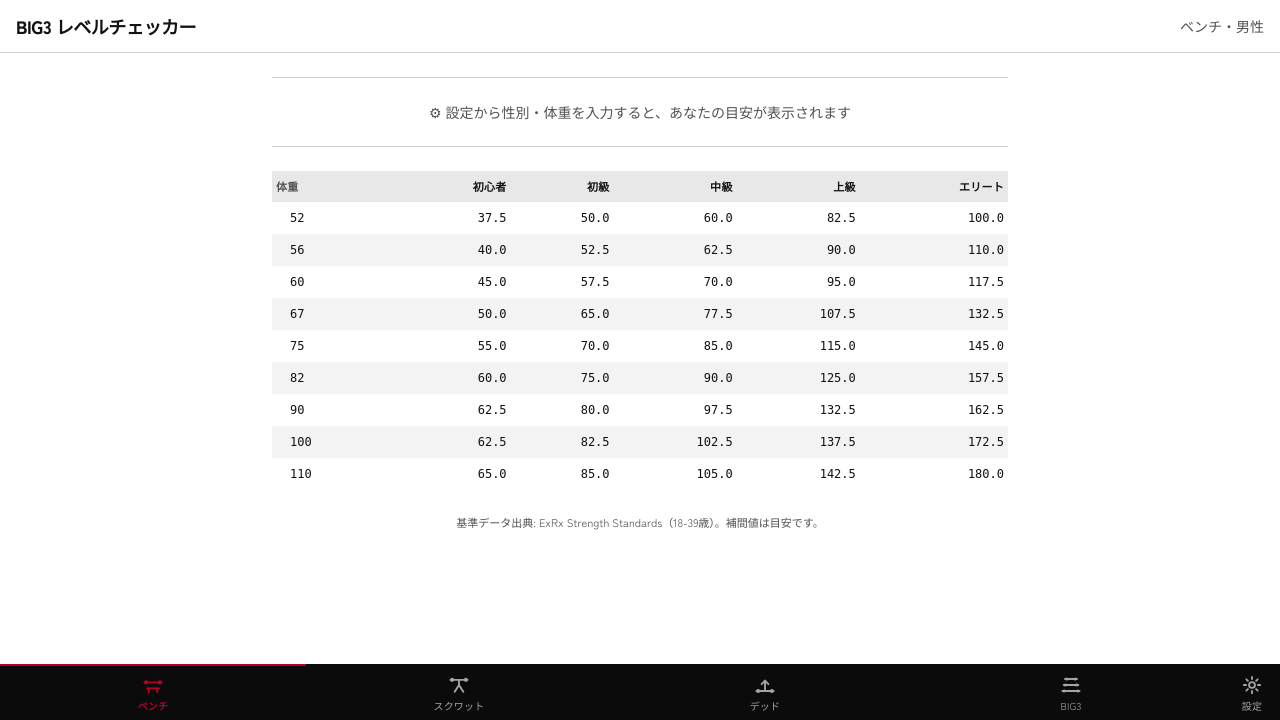
Test: App › 種目を切り替えるとヘッダ表示が変わる
Expected: the text "ベンチ・男性" is shown, [1180,16,1264,36]
Click the button "スクワット": (459, 692) [306,664,612,719]
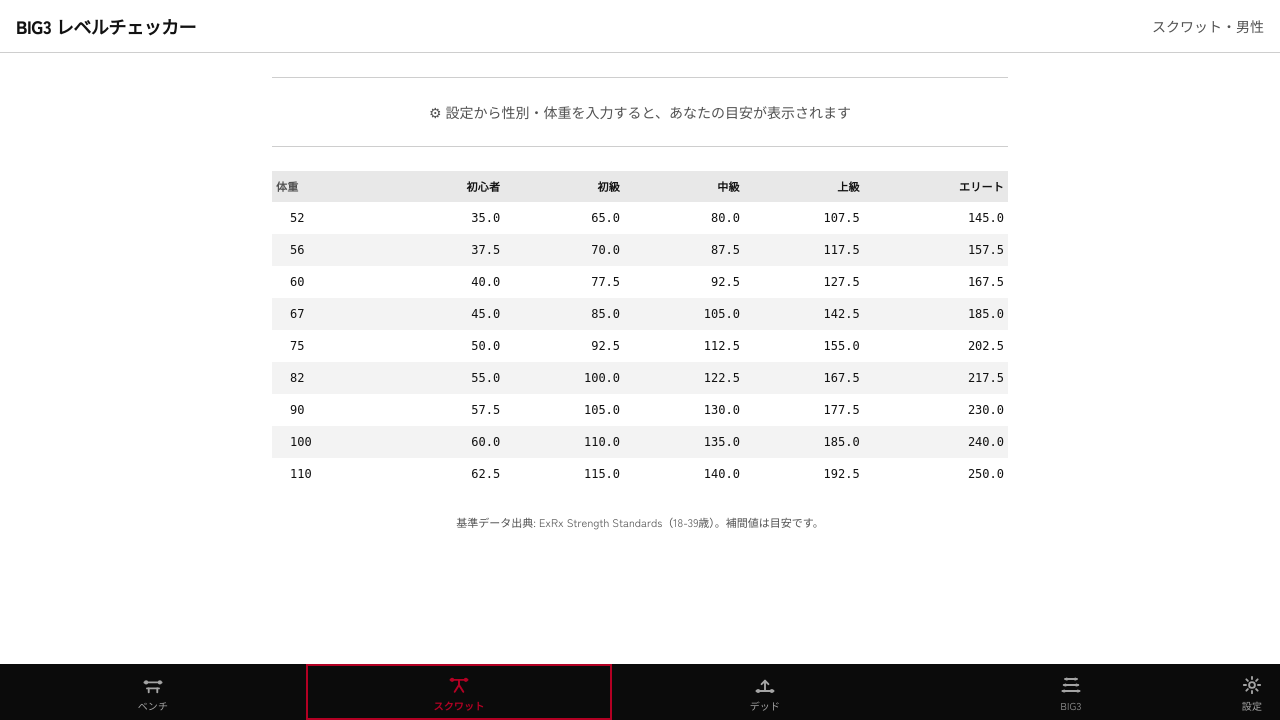
Now the text "スクワット・男性" is shown, box [1152,16,1264,36]
